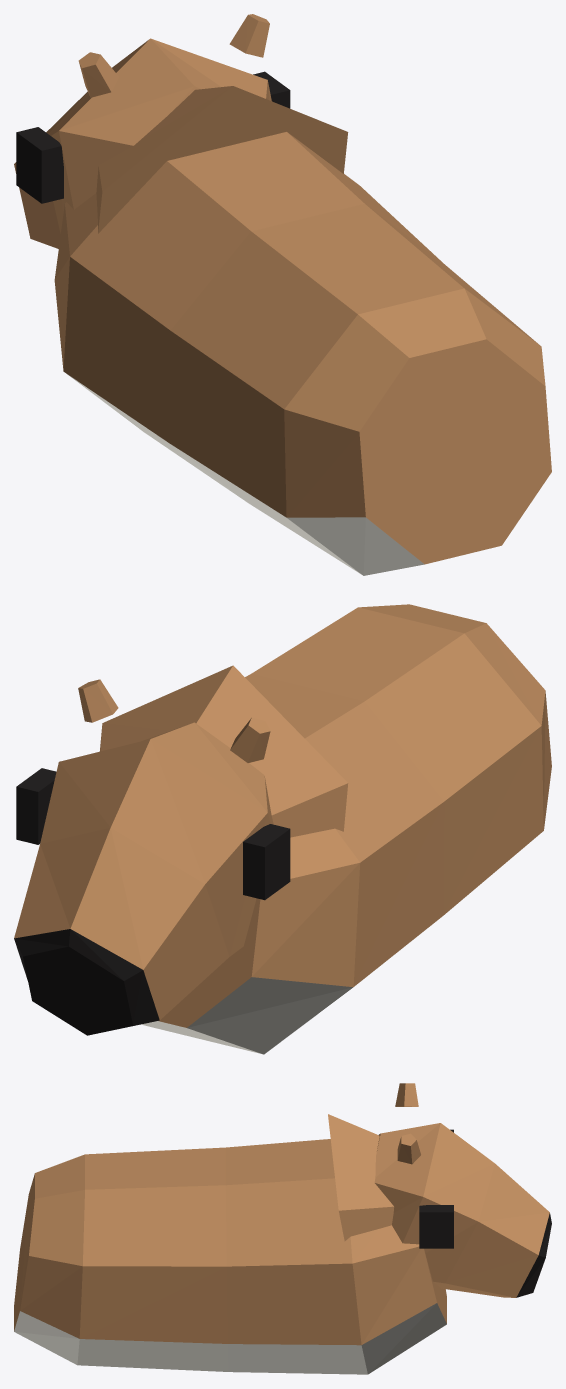
File: animal_guineapig.obj
3 renders of one model, top to bottom at view 1: azimuth 30°, elevation 25°; view 2: azimuth 150°, elevation 25°; view 3: azimuth 270°, elevation 25°, orthographic. The views are drawn at different scales.
Visible parts, largest first — view 1: animal_guineapig; view 2: animal_guineapig; view 3: animal_guineapig.
Part boxes in pixels (<box>): animal_guineapig: <box>14,14,551,575</box>; animal_guineapig: <box>14,604,551,1054</box>; animal_guineapig: <box>14,1083,551,1374</box>.
Size of the model in its own units: 0.2108 by 0.2507 by 0.4964.
